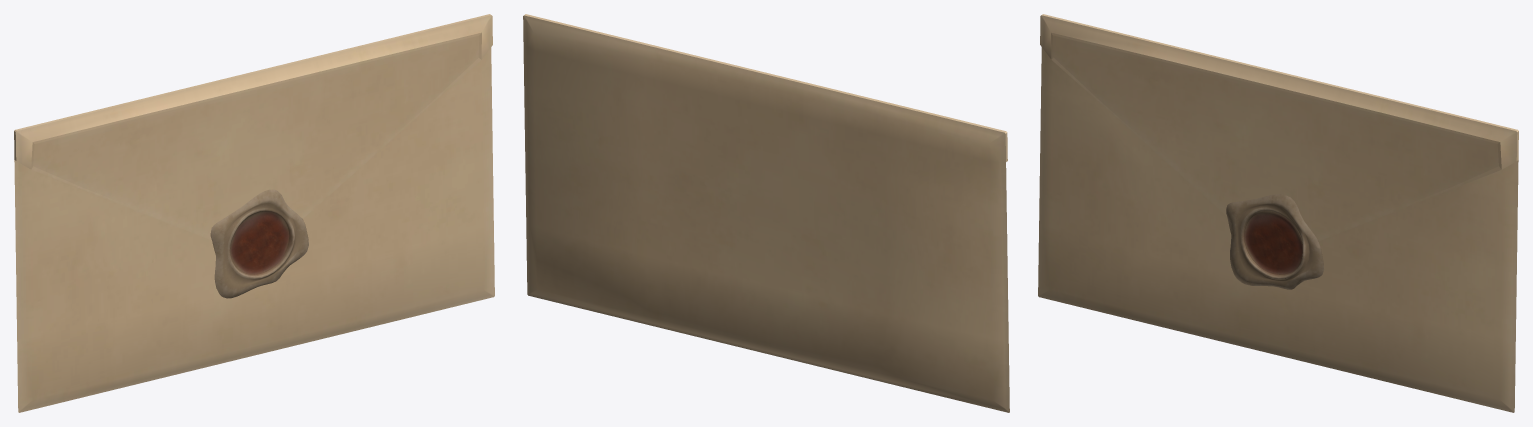
File: letter.glb
3 renders of one model, left to right at view 1: azimuth 30°, elevation 25°; view 2: azimuth 150°, elevation 25°; view 3: azimuth 330°, elevation 25°, orthographic.
Parts seen in each view (by area): view 1: pict_envelope_low_pict_0; view 2: pict_envelope_low_pict_0; view 3: pict_envelope_low_pict_0.
Boxes of the visible parts, x1,y1,x2,y2 form: pict_envelope_low_pict_0: (14, 14, 494, 412); pict_envelope_low_pict_0: (523, 14, 1009, 412); pict_envelope_low_pict_0: (1038, 14, 1518, 412).
Bounding box in the file's own units: 1.12 × 0.6266 × 0.0514.
2 materials, 2 textured.
